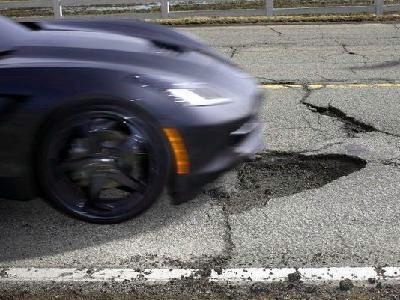pothole: (203, 148, 366, 214), (308, 101, 375, 134)
